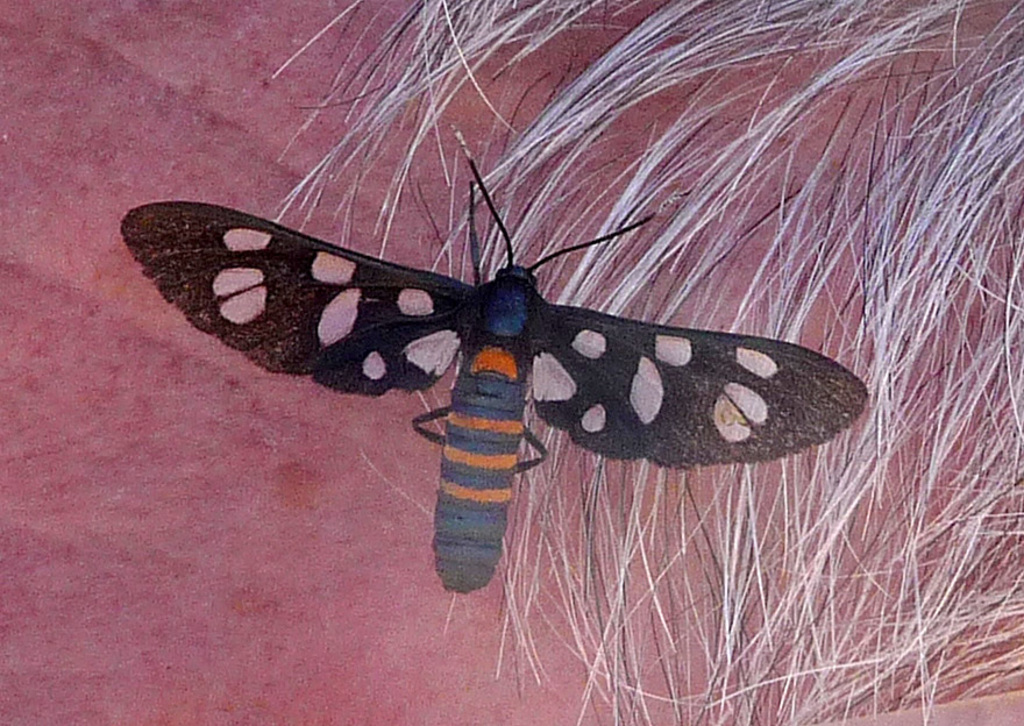Butterfly: (100, 126, 879, 626)
